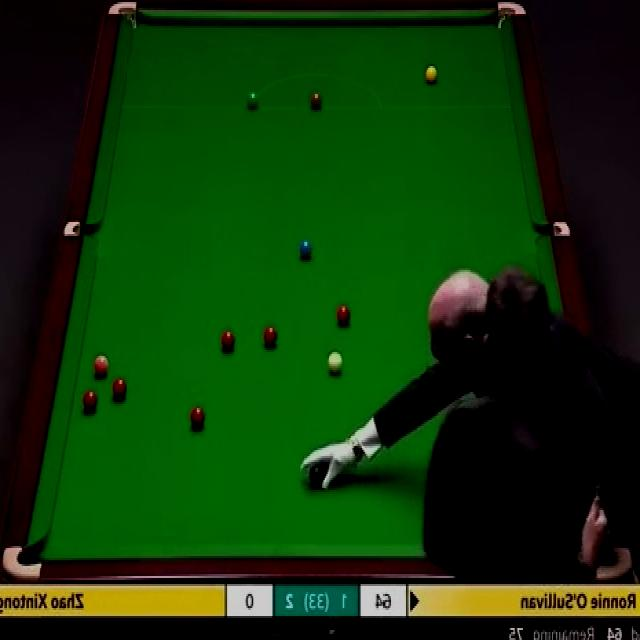black-ball: (310, 464, 326, 488)
blue-ball: (299, 239, 312, 261)
brown-ball: (310, 93, 322, 110)
green-ball: (247, 90, 258, 110)
pink-ball: (92, 353, 109, 378)
red-ball: (189, 405, 207, 430), (220, 327, 235, 352), (264, 325, 278, 349), (112, 378, 127, 399), (83, 391, 96, 413), (337, 302, 349, 324)
white-ball: (328, 349, 344, 377)
yellow-ball: (424, 66, 438, 86)
